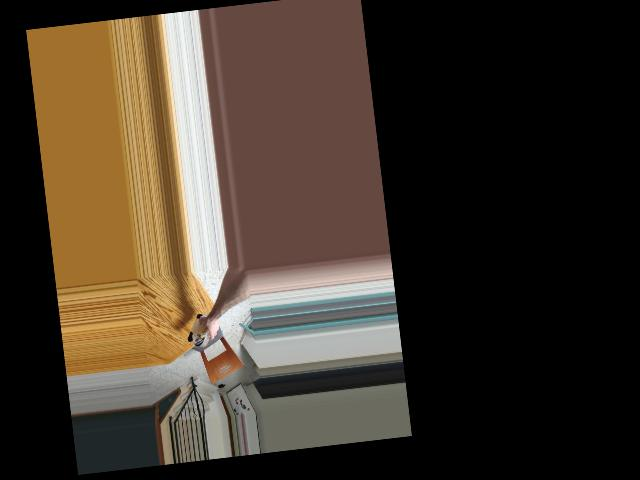cheese: (184, 309, 221, 348)
